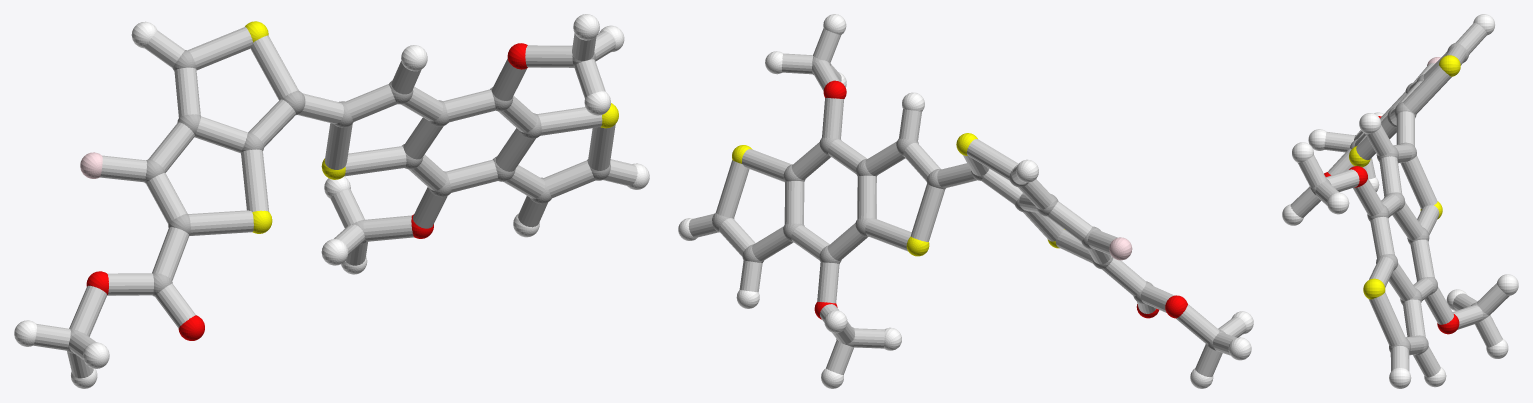
File: Dimethoxy_Benzodithiophene_Phi_30_Theta_60_Methylcarbonyl_3_Fluoro_Thienothiophene.glb
The picture shows the model from 3 angles, left to right: view 1: azimuth 30°, elevation 25°; view 2: azimuth 150°, elevation 25°; view 3: azimuth 270°, elevation 25°; orthographic projection. The views are drawn at different scales.
Parts seen in each view (by area): view 1: grp15205, grp8689, grp1, grp13395, grp7241; view 2: grp15205, grp8689, grp1, grp13395, grp7241; view 3: grp15205, grp8689, grp1, grp7241, grp13395.
Part boxes in pixels (<box>): grp15205: <box>33,27,637,378</box>; grp8689: <box>14,14,649,388</box>; grp1: <box>67,50,610,353</box>; grp13395: <box>86,43,527,340</box>; grp7241: <box>245,21,618,233</box>; grp15205: <box>688,28,1246,376</box>; grp8689: <box>678,14,1253,388</box>; grp1: <box>712,56,1225,350</box>; grp13395: <box>814,80,1187,319</box>; grp7241: <box>732,133,1064,256</box>; grp15205: <box>1290,23,1509,377</box>; grp8689: <box>1282,14,1518,388</box>; grp1: <box>1310,42,1489,355</box>; grp7241: <box>1349,55,1460,299</box>; grp13395: <box>1324,116,1459,334</box>.
Bounding box in the file's own units: 16.72 × 7.83 × 6.42.
